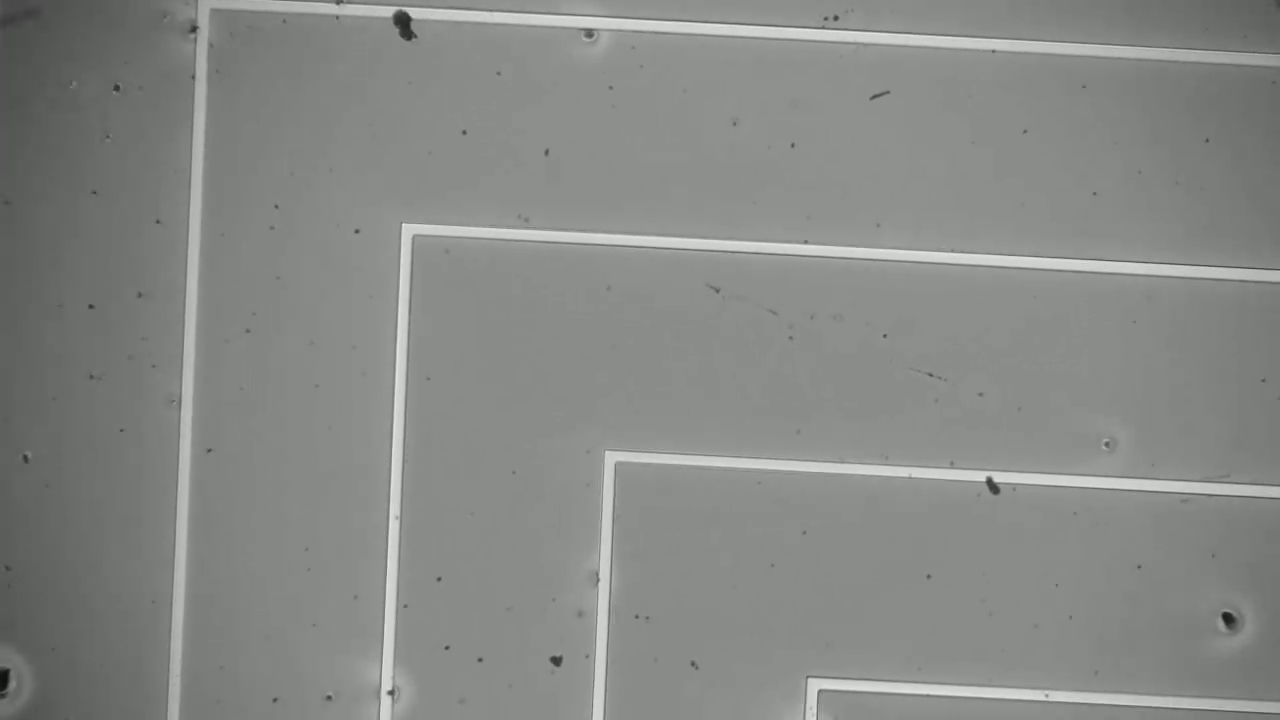stains_enbedded: (384, 2, 423, 43), (369, 676, 405, 712), (182, 18, 217, 52), (977, 464, 1006, 499)
